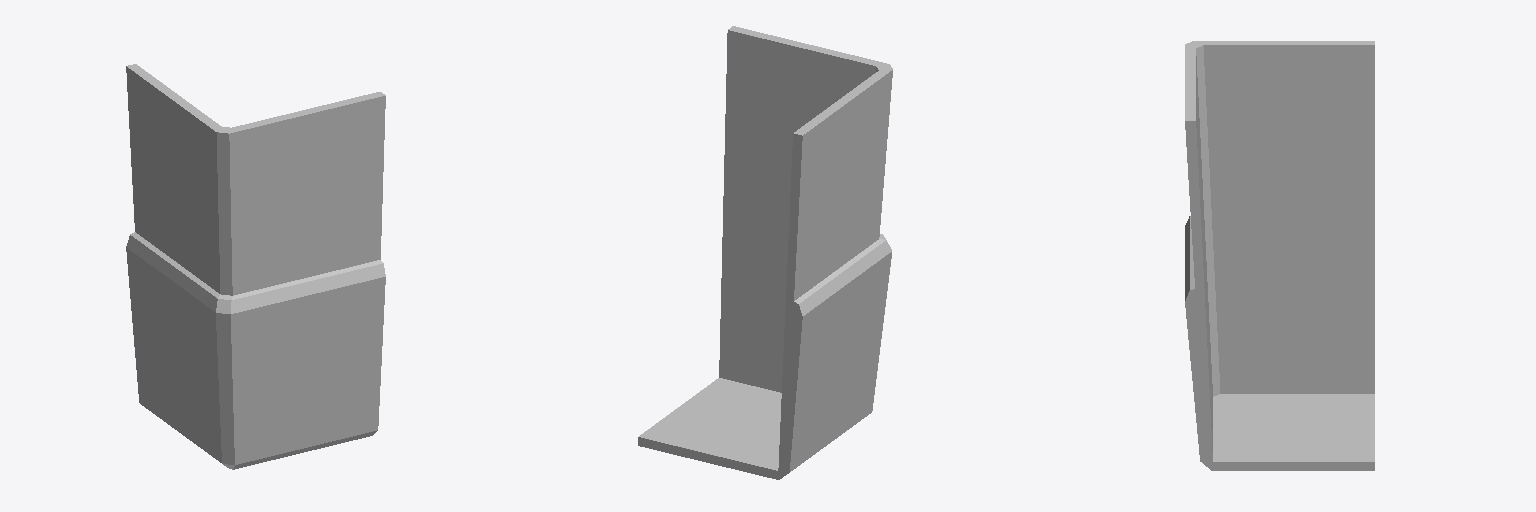
The model's file is base_building_bottom_left_corner_tile.obj.
3 views of the same model, side by side, from view 1: azimuth 30°, elevation 25°; view 2: azimuth 150°, elevation 25°; view 3: azimuth 270°, elevation 25° (orthographic).
Visible parts, largest first — view 1: bottom_left_corner_tile.001_Cube.005; view 2: bottom_left_corner_tile.001_Cube.005; view 3: bottom_left_corner_tile.001_Cube.005.
Part boxes in pixels (x1,y1,x2,y2): bottom_left_corner_tile.001_Cube.005: (126,64,385,469); bottom_left_corner_tile.001_Cube.005: (638,26,892,479); bottom_left_corner_tile.001_Cube.005: (1185,41,1374,470).
Bounding box in the file's own units: 1.97 × 4 × 1.97.